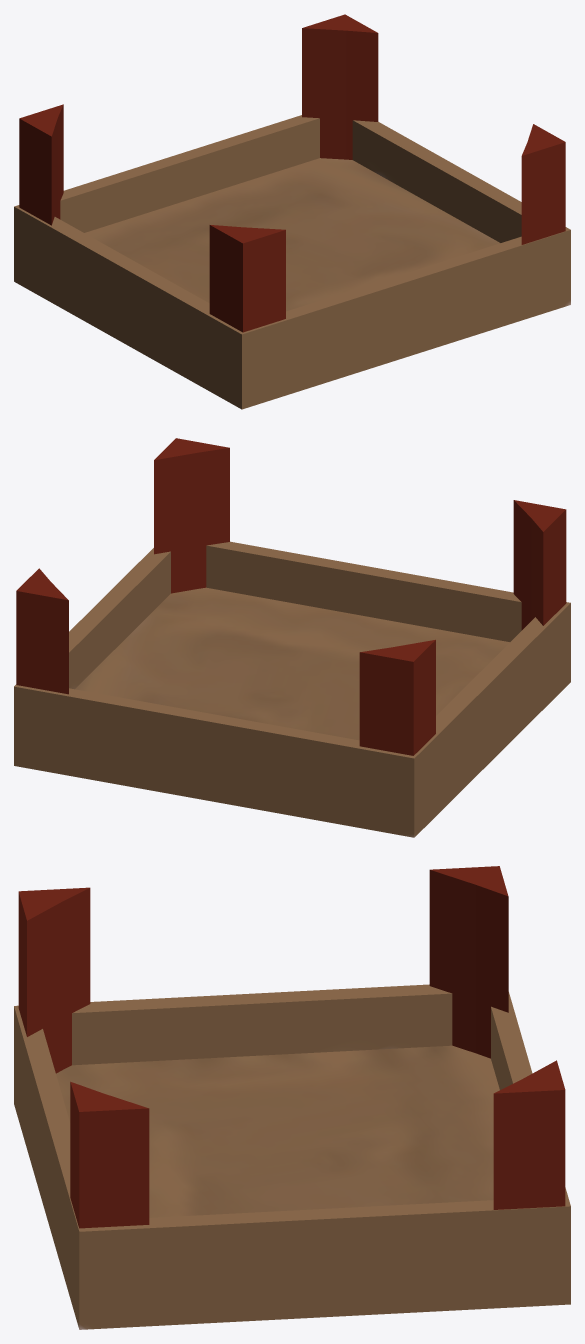
File: till.fbx
The picture shows the model from 3 angles, top to bottom: view 1: azimuth 30°, elevation 25°; view 2: azimuth 150°, elevation 25°; view 3: azimuth 270°, elevation 25°; orthographic projection. The views are drawn at different scales.
Parts seen in each view (by area): view 1: till; view 2: till; view 3: till.
Boxes of the visible parts, x1,y1,x2,y2 form: till: (14,14,570,409); till: (14,438,570,837); till: (14,866,570,1329).
Bounding box in the file's own units: 58.68 × 23.37 × 54.98.
